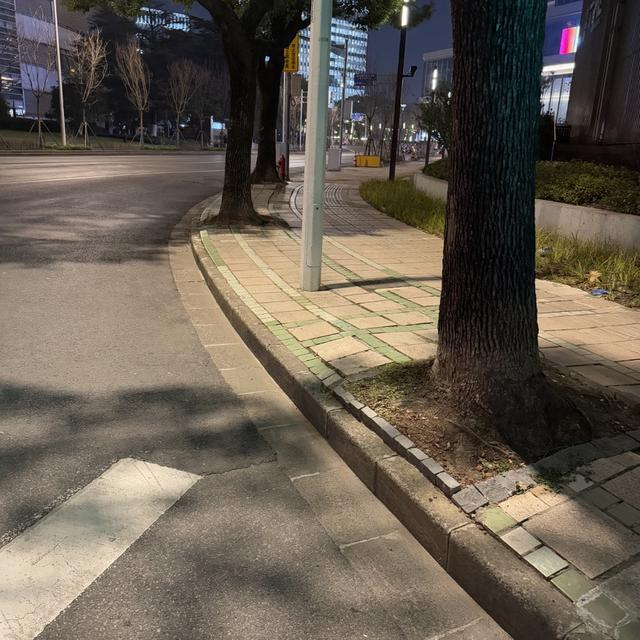curb: (191, 233, 579, 639)
